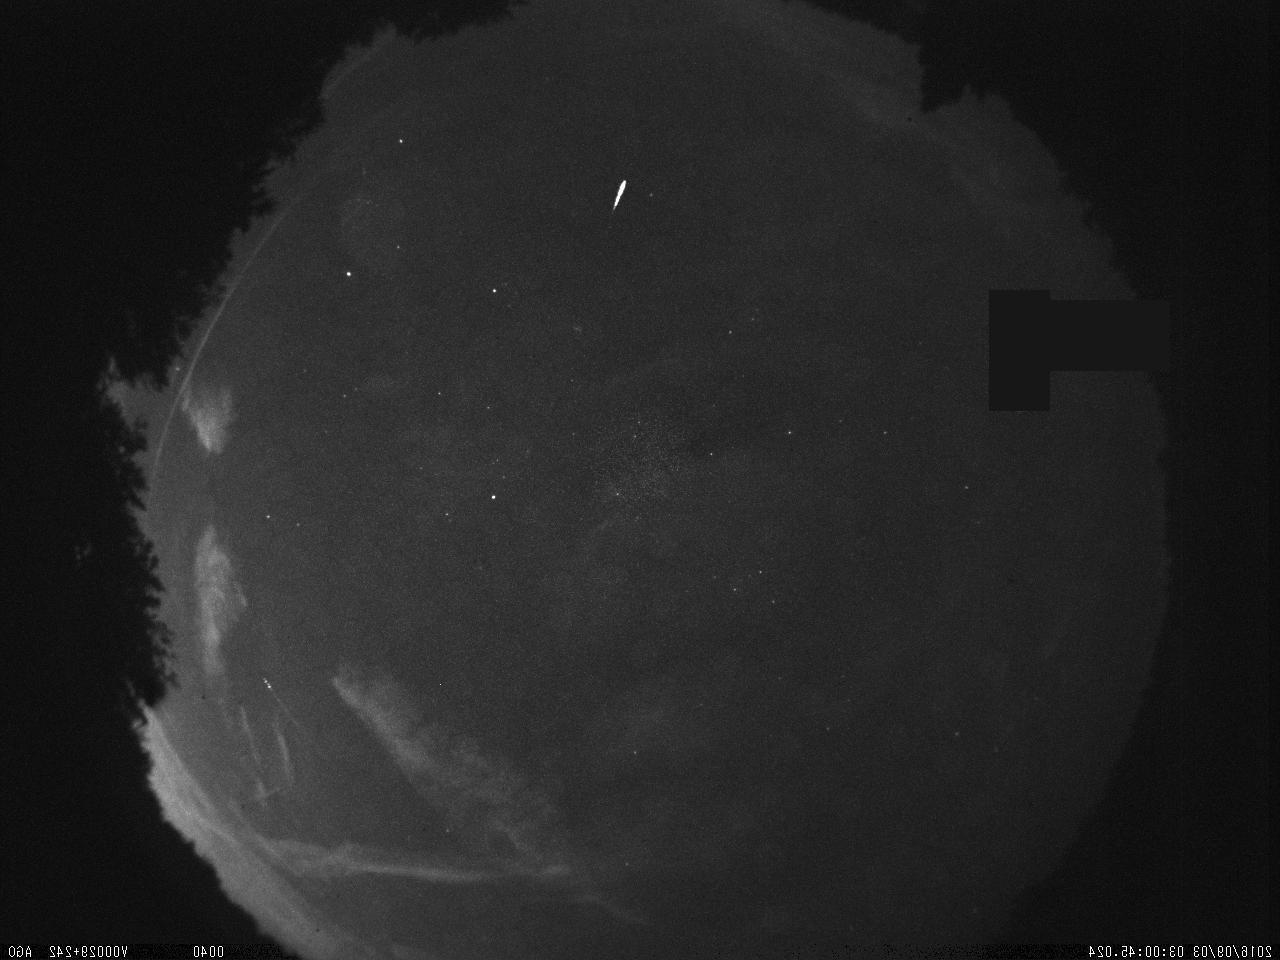meteor: (601, 168, 637, 218)
